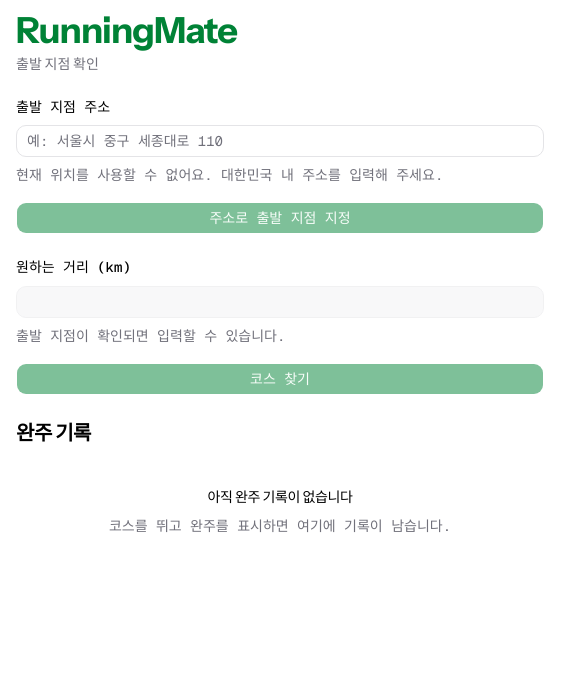
it: RunPage › 주소가 대한민국 내로 확인되면 지도와 활성화된 거리 입력을 보여준다
Type "서울시 중구 세종대로 110" into the field labelled "출발 지점 주소".
click(280, 141); type("서울시 중구 세종대로 110")  # box left=16, top=125, right=544, bottom=157
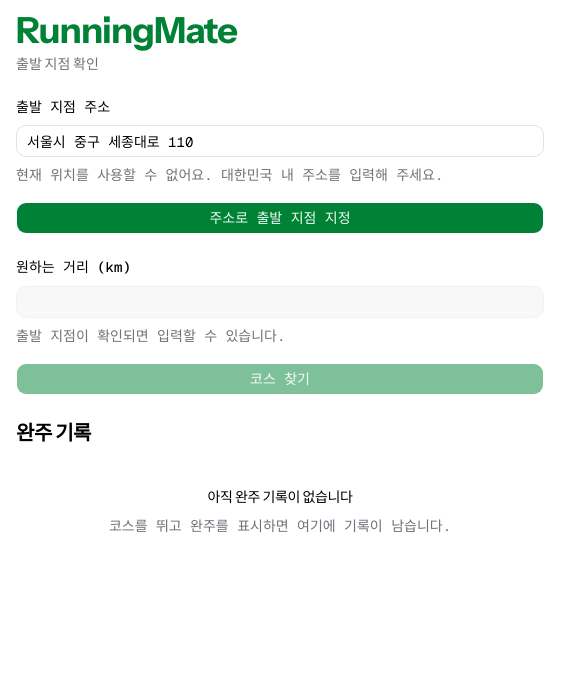
Click the button "주소로 출발 지점 지정".
click(280, 218)  # box left=16, top=202, right=544, bottom=234
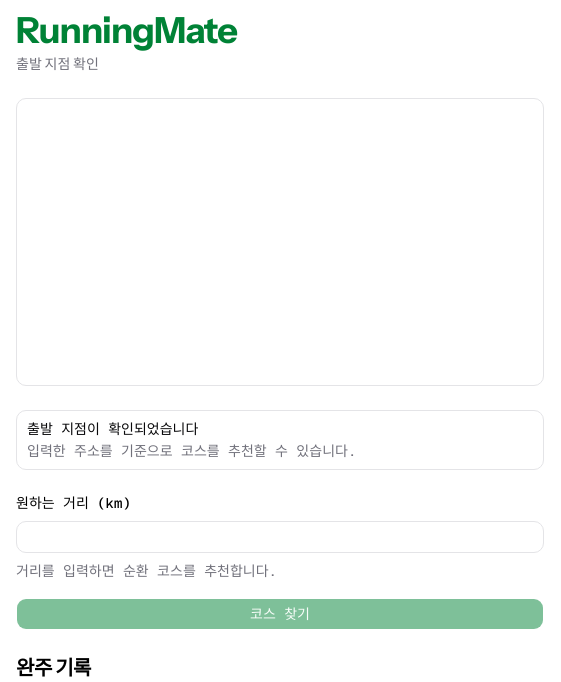
Now the element with test id "kakao-map" is shown, box left=16, top=98, right=544, bottom=386
Now the number field labelled "원하는 거리 (km)" is enabled, box left=16, top=521, right=544, bottom=553
